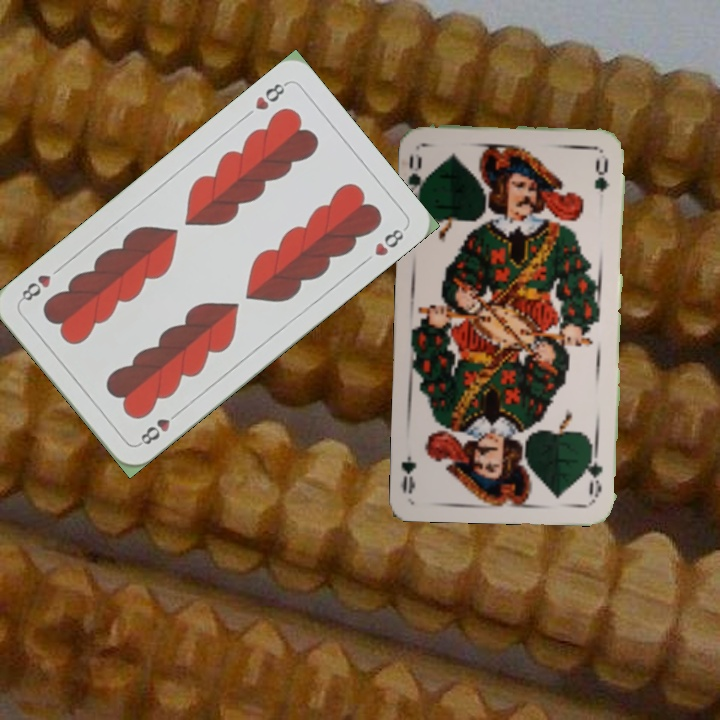GO: (404, 149, 431, 205), (583, 441, 606, 500)
H8: (134, 406, 183, 448), (251, 78, 291, 113)
